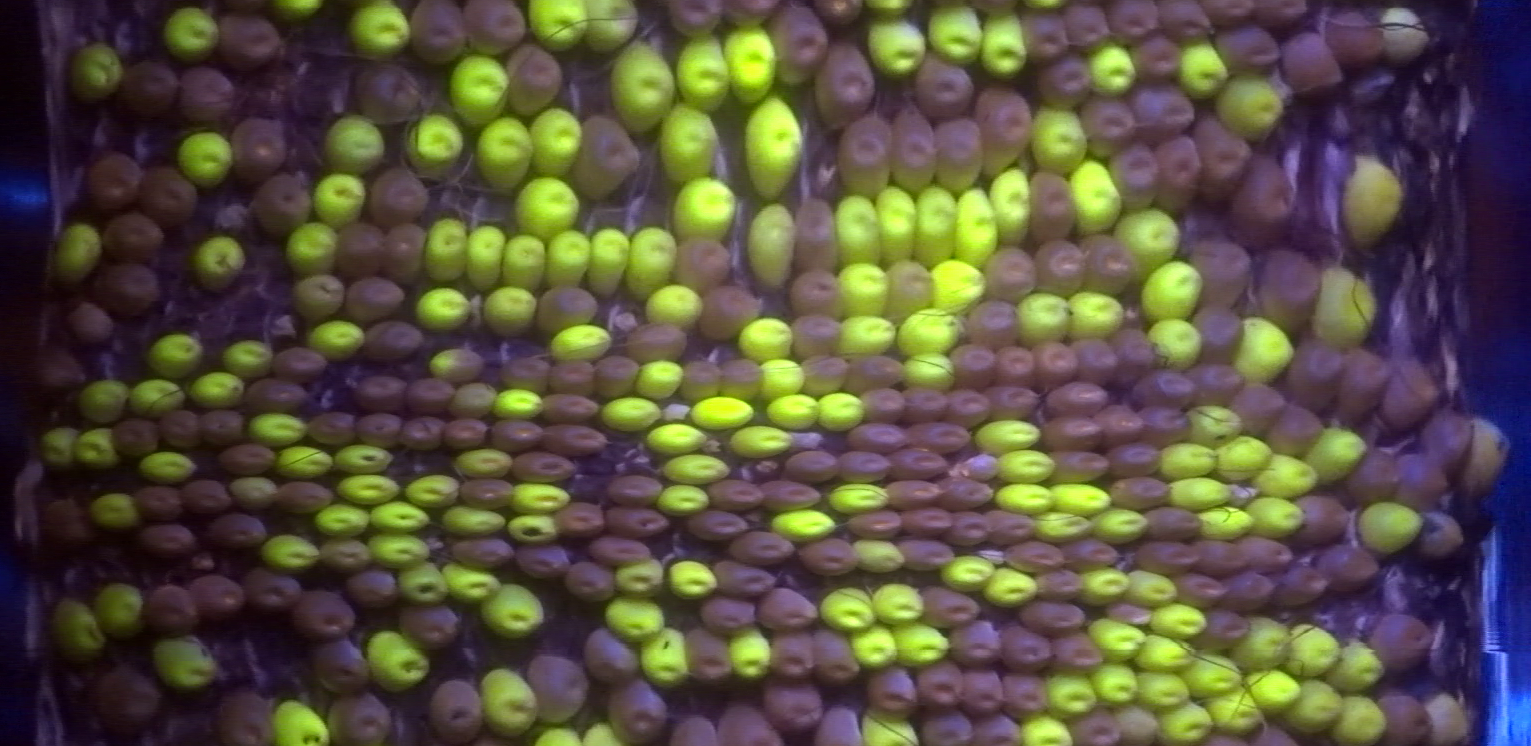fluorescent: (746, 101, 803, 199), (614, 43, 673, 129), (1313, 261, 1374, 343), (1351, 156, 1402, 243), (676, 28, 728, 111), (1466, 416, 1511, 507), (1138, 263, 1202, 323), (748, 204, 794, 287), (728, 22, 777, 99), (324, 114, 385, 175), (1220, 69, 1280, 131), (450, 53, 507, 118), (661, 107, 712, 179), (1174, 37, 1232, 99), (476, 123, 528, 192), (479, 670, 533, 736), (530, 108, 581, 177), (1377, 3, 1428, 72), (986, 169, 1032, 243), (1035, 103, 1084, 172), (1238, 314, 1290, 379), (1357, 502, 1424, 552), (149, 640, 218, 688), (368, 633, 426, 690), (1117, 210, 1177, 265), (678, 179, 732, 240), (46, 603, 108, 655), (635, 627, 692, 683), (633, 228, 679, 297), (1206, 684, 1267, 736), (519, 181, 581, 232), (173, 132, 232, 185), (866, 23, 922, 78), (1235, 614, 1288, 672), (837, 198, 881, 267), (350, 4, 407, 57), (480, 589, 544, 636), (927, 8, 980, 64), (406, 116, 456, 175), (877, 184, 914, 263), (926, 260, 983, 311), (420, 219, 469, 277), (1074, 162, 1121, 222), (959, 191, 995, 269), (582, 1, 640, 49), (1304, 429, 1362, 477), (524, 4, 590, 46), (919, 185, 954, 264), (271, 700, 332, 745), (980, 16, 1029, 72), (1065, 290, 1124, 336), (1286, 623, 1336, 677), (896, 309, 960, 350), (590, 227, 627, 297), (162, 6, 212, 57), (289, 221, 341, 270), (487, 284, 535, 337), (1015, 296, 1070, 342), (1184, 403, 1239, 449), (314, 173, 366, 221), (499, 234, 543, 290), (71, 47, 119, 98), (1333, 638, 1381, 689), (466, 224, 503, 289), (547, 325, 612, 362), (1257, 453, 1312, 496), (1152, 319, 1200, 368), (1184, 655, 1240, 697), (95, 587, 145, 634), (1086, 45, 1137, 91), (196, 234, 240, 287), (55, 226, 98, 280), (141, 333, 202, 371), (1291, 680, 1337, 730), (1133, 633, 1195, 670), (1426, 692, 1468, 746), (1245, 671, 1297, 714), (244, 411, 309, 445), (547, 234, 589, 286), (1047, 478, 1109, 513), (822, 589, 877, 628), (604, 600, 667, 634), (446, 561, 498, 602), (1247, 497, 1300, 537), (1090, 620, 1143, 660), (1149, 600, 1206, 637), (1155, 702, 1212, 739), (687, 396, 755, 427), (842, 268, 885, 317), (728, 424, 791, 457), (1025, 508, 1089, 540), (1088, 511, 1150, 544), (814, 388, 865, 428), (1161, 438, 1212, 478), (1216, 440, 1267, 480), (838, 317, 893, 354), (738, 321, 793, 357), (1340, 697, 1384, 742), (983, 567, 1035, 605), (415, 289, 468, 326), (261, 535, 315, 571), (867, 584, 924, 618), (619, 556, 662, 601), (669, 557, 716, 598), (724, 628, 765, 675), (645, 286, 700, 321), (974, 424, 1040, 453), (906, 350, 954, 389), (897, 626, 946, 664), (860, 710, 919, 741), (1124, 570, 1176, 605), (1047, 678, 1094, 716), (35, 426, 79, 466), (1138, 670, 1188, 705), (1196, 507, 1253, 537), (946, 556, 991, 594), (427, 347, 480, 379), (82, 379, 125, 418), (133, 380, 181, 414), (1084, 567, 1128, 604), (1171, 479, 1231, 506), (998, 453, 1052, 483), (603, 400, 660, 428), (1092, 667, 1137, 702), (995, 482, 1050, 510), (271, 1, 328, 28), (365, 540, 429, 564), (846, 630, 897, 660), (755, 360, 804, 391), (768, 514, 831, 538), (637, 361, 681, 395), (137, 457, 199, 481), (191, 374, 246, 401), (312, 325, 364, 353), (495, 390, 547, 418), (407, 478, 459, 506), (830, 482, 888, 507), (770, 396, 818, 426), (89, 493, 137, 523), (314, 502, 362, 532), (370, 507, 430, 531), (214, 341, 267, 368), (342, 476, 396, 502), (512, 482, 568, 507), (279, 450, 334, 475), (403, 568, 444, 601), (454, 450, 506, 476), (438, 509, 499, 531), (645, 427, 708, 448), (659, 483, 708, 510), (338, 446, 392, 470), (665, 460, 728, 480), (79, 432, 116, 465), (1023, 723, 1076, 745), (507, 515, 553, 536), (530, 730, 579, 746), (582, 726, 626, 741)
nonfluorescent: (976, 80, 1038, 181), (574, 112, 637, 202), (1240, 149, 1297, 246), (1261, 241, 1322, 330), (1274, 24, 1341, 99), (771, 1, 828, 89), (817, 40, 872, 127), (504, 38, 565, 116), (351, 63, 422, 128), (223, 115, 287, 185), (836, 116, 892, 195), (91, 666, 160, 728), (1373, 610, 1432, 682), (1154, 132, 1205, 215), (210, 14, 286, 69), (406, 1, 468, 68), (933, 109, 981, 195), (172, 65, 236, 129), (1199, 118, 1243, 211), (527, 653, 587, 721), (250, 171, 314, 233), (427, 676, 486, 743), (1077, 234, 1137, 299), (892, 107, 936, 195), (913, 54, 973, 117), (610, 677, 670, 740), (328, 692, 397, 746), (1294, 332, 1343, 407), (117, 57, 176, 119), (1199, 241, 1254, 307), (1317, 544, 1385, 597), (365, 170, 431, 224), (82, 152, 138, 215), (1340, 349, 1392, 416), (678, 234, 736, 294), (580, 624, 640, 682), (863, 660, 923, 718), (1329, 3, 1381, 69), (143, 166, 199, 227), (1015, 8, 1070, 70), (1211, 27, 1285, 73), (1033, 172, 1080, 244), (310, 636, 370, 692), (1079, 99, 1137, 156), (376, 214, 426, 280), (138, 581, 198, 636), (1377, 687, 1432, 746), (795, 195, 837, 272), (985, 243, 1038, 304), (941, 617, 1004, 668), (1136, 86, 1194, 141), (189, 568, 247, 623), (1385, 365, 1434, 430), (216, 689, 271, 746), (1267, 562, 1332, 610), (466, 1, 529, 50), (1110, 143, 1156, 209), (1047, 51, 1101, 107), (706, 698, 769, 746), (764, 681, 822, 733), (1035, 240, 1086, 299), (1392, 454, 1443, 513), (395, 600, 461, 645), (103, 263, 160, 315), (535, 285, 598, 332), (701, 288, 759, 339), (242, 566, 306, 612), (1296, 493, 1350, 547), (106, 210, 165, 259), (291, 590, 352, 637), (1193, 304, 1244, 360), (784, 268, 842, 317), (347, 276, 411, 319), (1267, 408, 1325, 455), (626, 319, 689, 362), (206, 513, 273, 553), (781, 447, 849, 486), (33, 344, 88, 392), (1348, 449, 1396, 504), (760, 590, 820, 634), (954, 664, 1005, 715), (808, 632, 857, 685), (684, 631, 733, 684), (1001, 625, 1052, 675), (1133, 368, 1195, 409), (502, 448, 576, 482), (1002, 663, 1051, 714), (1110, 1, 1163, 48), (969, 299, 1022, 346), (715, 358, 772, 401), (1106, 474, 1176, 509), (1069, 1, 1115, 54), (796, 539, 860, 577), (560, 559, 615, 603), (1428, 410, 1467, 472), (727, 531, 798, 565), (603, 508, 676, 541), (1233, 382, 1279, 434), (765, 631, 811, 683), (952, 345, 1005, 390), (1017, 599, 1089, 632), (364, 319, 420, 361), (920, 585, 976, 627), (1222, 568, 1275, 612), (695, 595, 758, 632), (714, 562, 777, 599), (1113, 325, 1157, 377), (1064, 536, 1127, 572), (1049, 449, 1110, 486), (1143, 505, 1209, 539), (1042, 415, 1102, 452), (1193, 365, 1247, 406), (1163, 1, 1211, 47), (1130, 35, 1178, 81), (788, 316, 843, 356), (242, 375, 306, 409), (581, 535, 649, 567), (1050, 632, 1105, 671), (1171, 572, 1226, 611), (547, 422, 610, 456), (352, 372, 404, 413), (919, 663, 960, 715), (1241, 532, 1294, 572), (1202, 609, 1248, 655), (848, 419, 914, 451), (914, 420, 971, 457), (683, 507, 751, 538), (597, 352, 643, 397), (1144, 408, 1197, 447), (45, 498, 84, 551), (1072, 704, 1121, 746), (944, 509, 995, 549), (681, 360, 728, 403), (70, 299, 118, 341), (802, 351, 850, 393), (276, 481, 332, 517), (305, 409, 358, 447), (888, 447, 952, 478), (499, 355, 554, 391), (603, 473, 663, 506), (453, 537, 519, 567), (1037, 340, 1080, 386), (553, 500, 605, 538), (347, 569, 399, 607), (988, 383, 1037, 423), (140, 523, 201, 555), (1037, 565, 1091, 601), (490, 416, 545, 451), (1043, 381, 1105, 412), (912, 715, 974, 746), (937, 476, 997, 508), (355, 409, 404, 448), (939, 387, 989, 425), (113, 416, 156, 460), (217, 441, 276, 473), (1139, 539, 1198, 571), (1074, 336, 1116, 380), (815, 705, 860, 746), (343, 222, 379, 273), (1099, 405, 1146, 444), (835, 451, 892, 483), (859, 388, 911, 423), (1006, 539, 1066, 569), (543, 391, 601, 422), (761, 481, 825, 509), (138, 486, 185, 524), (666, 1, 717, 36), (902, 538, 953, 573), (1255, 1, 1314, 31), (275, 346, 334, 376), (849, 356, 899, 391), (403, 378, 451, 414), (159, 410, 201, 451), (999, 345, 1038, 389), (849, 507, 906, 537), (1110, 443, 1163, 475), (885, 479, 943, 508), (457, 480, 513, 510), (1199, 541, 1247, 576), (902, 386, 948, 422), (201, 410, 246, 446), (181, 481, 227, 516), (971, 715, 1022, 746), (1205, 1, 1259, 30), (401, 412, 444, 448), (709, 479, 762, 508), (443, 417, 492, 448), (905, 508, 954, 539), (992, 512, 1033, 549), (716, 1, 774, 27), (520, 547, 570, 577), (671, 713, 712, 746), (818, 1, 863, 29), (556, 361, 598, 391)
